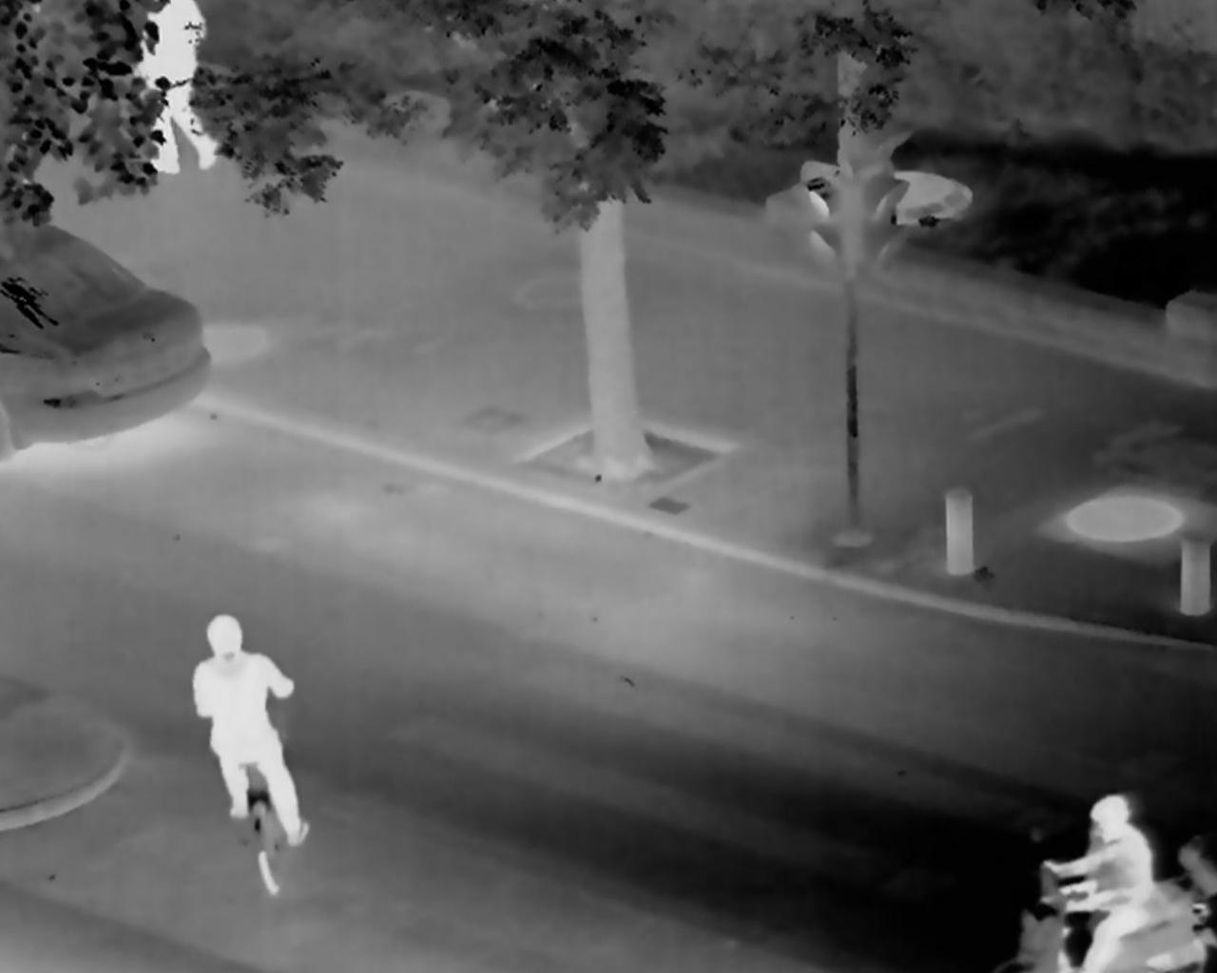person: (170, 614, 303, 851), (1053, 791, 1217, 971)
